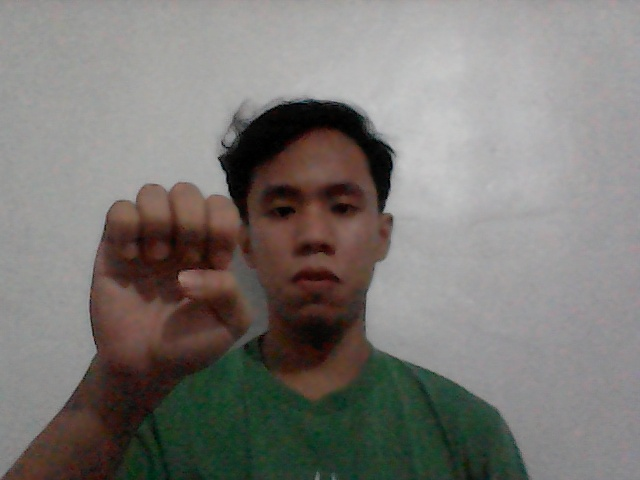E: (67, 166, 262, 416)
